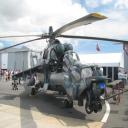helicopter: (1, 14, 128, 114)
